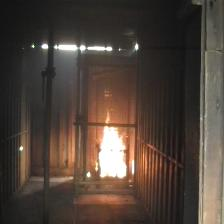fire: (99, 109, 127, 177)
